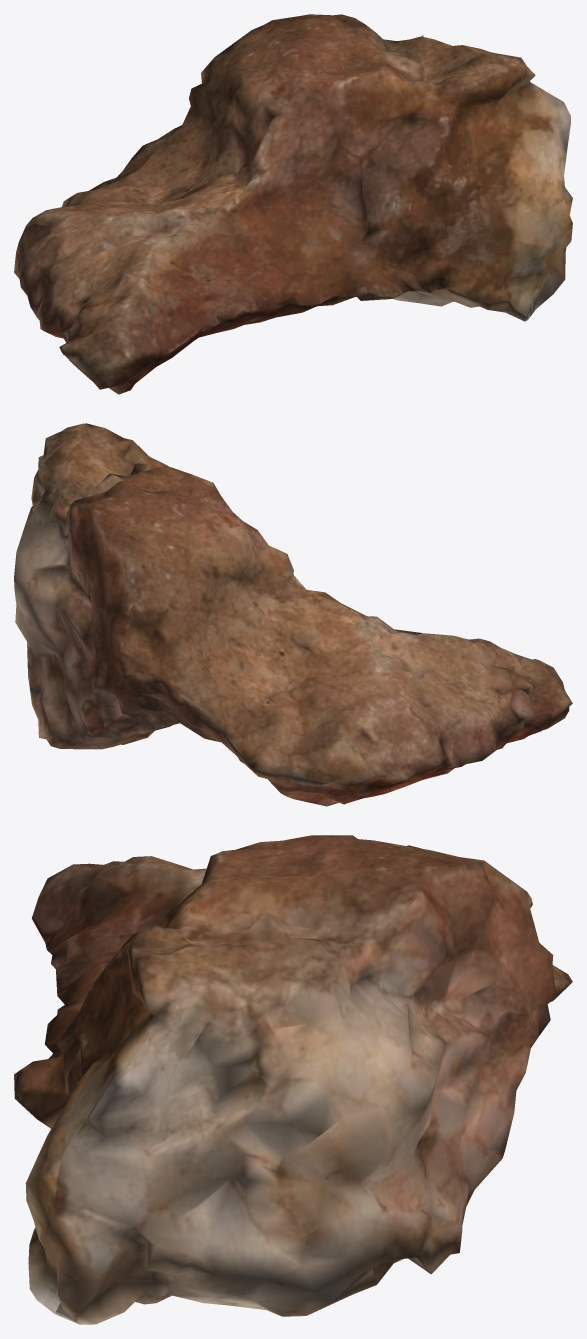
The model's file is stone_01.glb.
3 renders of one model, top to bottom at view 1: azimuth 30°, elevation 25°; view 2: azimuth 150°, elevation 25°; view 3: azimuth 270°, elevation 25°, orthographic. The views are drawn at different scales.
Parts seen in each view (by area): view 1: stone_01; view 2: stone_01; view 3: stone_01.
Boxes of the visible parts, <box> form: stone_01: <box>14,14,572,394</box>; stone_01: <box>14,423,572,806</box>; stone_01: <box>14,835,572,1324</box>.
Bounding box in the file's own units: 0.1464 × 0.0708 × 0.089.
Materials: 1 (1 with a texture image).
